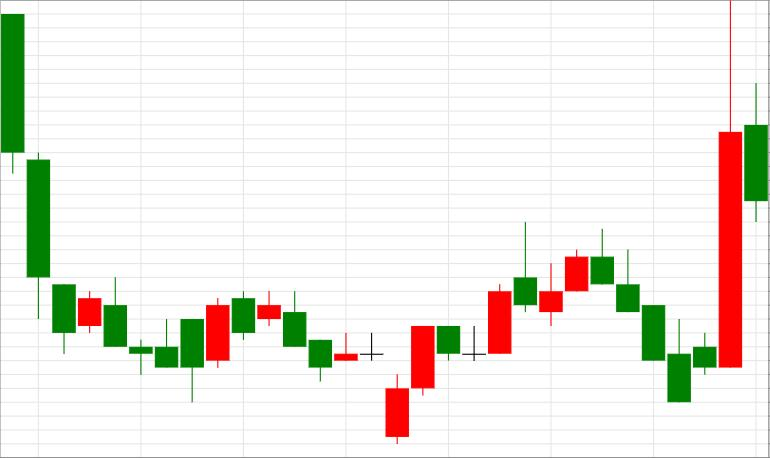shooting_star_fall: (385, 222, 537, 444)
